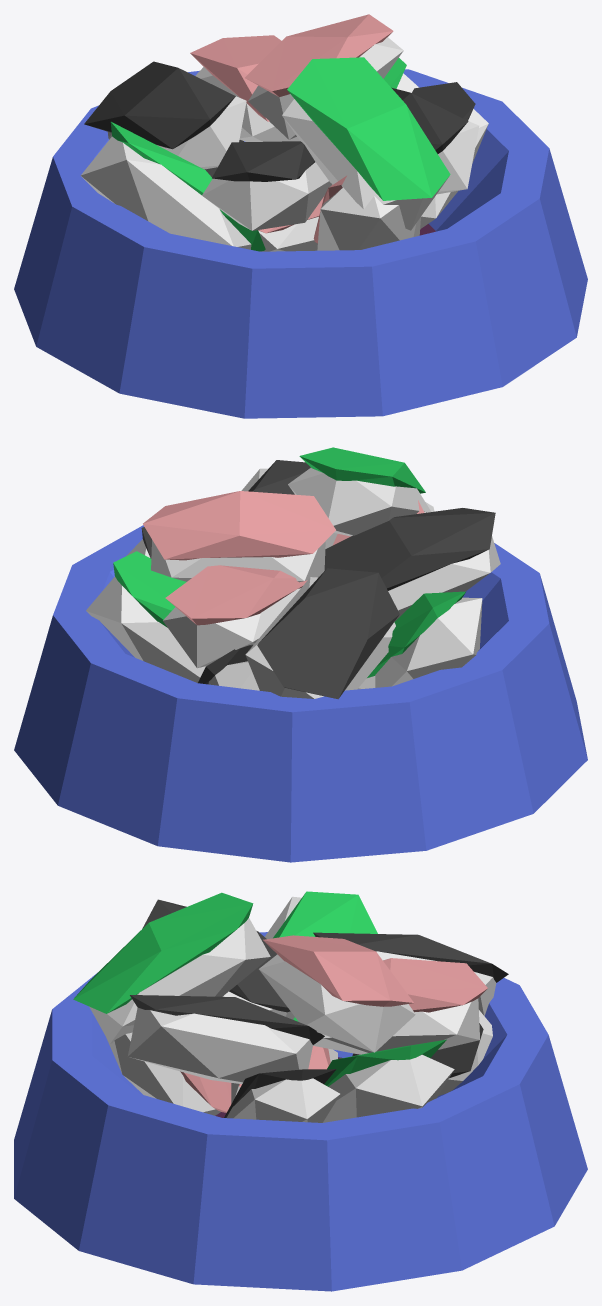
The model's file is KittenSnek_bowl.fbx.
3 renders of one model, top to bottom at view 1: azimuth 30°, elevation 25°; view 2: azimuth 150°, elevation 25°; view 3: azimuth 270°, elevation 25°, orthographic.
Visible parts, largest first — view 1: Bowl, salad_sushi.002, salad_sushi.001, salmon_sushi.004, salmon_sushi.002, shrimp_sushi.003, shrimp_sushi.002, shrimp_sushi.001, salmon_sushi.003, salmon_sushi, shrimp_sushi, salad_sushi; view 2: Bowl, salmon_sushi.004, shrimp_sushi.003, salmon_sushi.002, shrimp_sushi.002, salad_sushi.002, salad_sushi, salad_sushi.001, salmon_sushi.001, salmon_sushi.003; view 3: Bowl, salad_sushi.002, salmon_sushi.003, shrimp_sushi.003, shrimp_sushi.002, salad_sushi, salmon_sushi, shrimp_sushi.001, salad_sushi.001, salmon_sushi.004, salmon_sushi.002, salmon_sushi.001 (+1 smaller).
Part boxes in pixels (x1,y1,x2,y2): Bowl: (14,69,587,418); salad_sushi.002: (282,57,450,230); salad_sushi.001: (80,122,265,251); salmon_sushi.004: (84,61,246,169); salmon_sushi.002: (202,141,332,230); shrimp_sushi.003: (245,14,403,139); shrimp_sushi.002: (190,35,299,141); shrimp_sushi.001: (313,175,420,250); salmon_sushi.003: (391,87,479,194); salmon_sushi: (412,82,488,228); shrimp_sushi: (258,184,332,251); salad_sushi: (384,58,418,92); Bowl: (14,525,587,862); salmon_sushi.004: (245,568,399,699); shrimp_sushi.003: (143,491,335,582); salmon_sushi.002: (318,508,500,621); shrimp_sushi.002: (163,565,307,668); salad_sushi.002: (288,447,430,536); salad_sushi: (86,551,205,682); salad_sushi.001: (367,591,482,687); salmon_sushi.001: (198,644,259,690); salmon_sushi.003: (241,460,337,548); Bowl: (14,932,587,1291); salad_sushi.002: (73,892,270,1043); salmon_sushi.003: (127,995,324,1084); shrimp_sushi.003: (259,935,415,1052); shrimp_sushi.002: (313,958,487,1054); salad_sushi: (323,1039,454,1122); salmon_sushi: (224,1069,340,1122); shrimp_sushi.001: (106,1032,231,1115); salad_sushi.001: (265,891,377,1021); salmon_sushi.004: (313,932,508,1015); salmon_sushi.002: (142,899,294,1019); salmon_sushi.001: (352,1010,492,1095).
Size of the model in its own units: 230 by 114 by 228.
